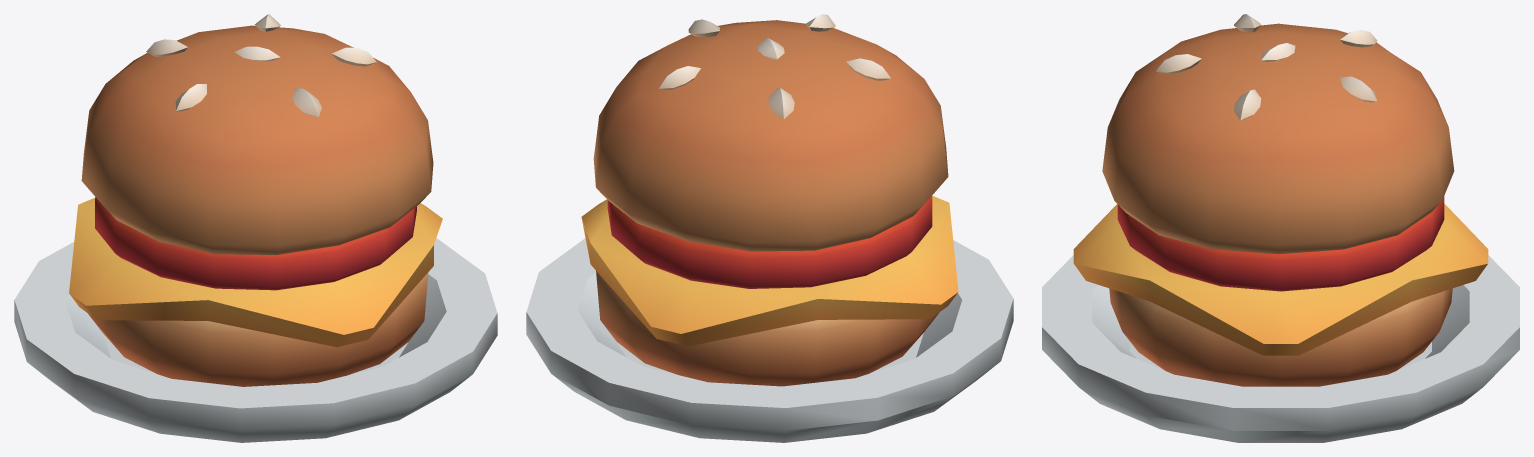
File: plate_bun_cheese_tomato.glb
The picture shows the model from 3 angles, left to right: view 1: azimuth 30°, elevation 25°; view 2: azimuth 150°, elevation 25°; view 3: azimuth 270°, elevation 25°; orthographic projection.
Parts seen in each view (by area): view 1: plate; view 2: plate; view 3: plate.
Boxes of the visible parts, x1=… form: plate: x1=14, y1=14, x2=497, y2=442; plate: x1=526, y1=14, x2=1013, y2=442; plate: x1=1042, y1=14, x2=1519, y2=442.
Size of the model in its own units: 0.95 by 0.6755 by 0.95.
Materials: 5 (5 with a texture image).
